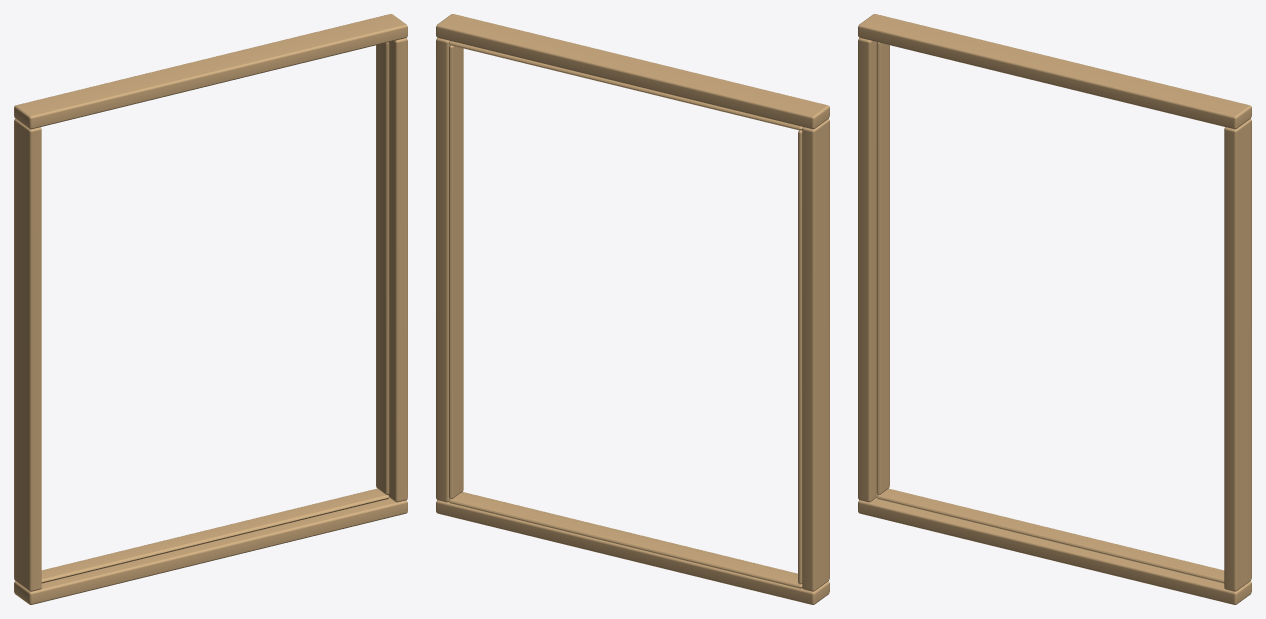
The model's file is pulse-rebate.glb.
3 views of the same model, side by side, from view 1: azimuth 30°, elevation 25°; view 2: azimuth 150°, elevation 25°; view 3: azimuth 330°, elevation 25° (orthographic).
Visible parts, largest first — view 1: Joinery.069; view 2: Joinery.069; view 3: Joinery.069.
Part boxes in pixels (<box>): Joinery.069: <box>14,14,407,604</box>; Joinery.069: <box>436,14,829,604</box>; Joinery.069: <box>858,14,1251,604</box>.
Bounding box in the file's own units: 2.14 × 2.64 × 0.165.
